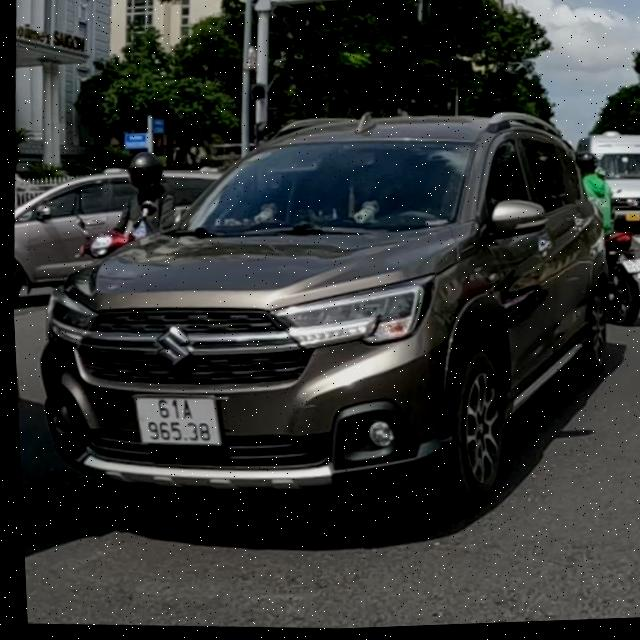car: (23, 84, 630, 542)
plate: (125, 384, 231, 455)
